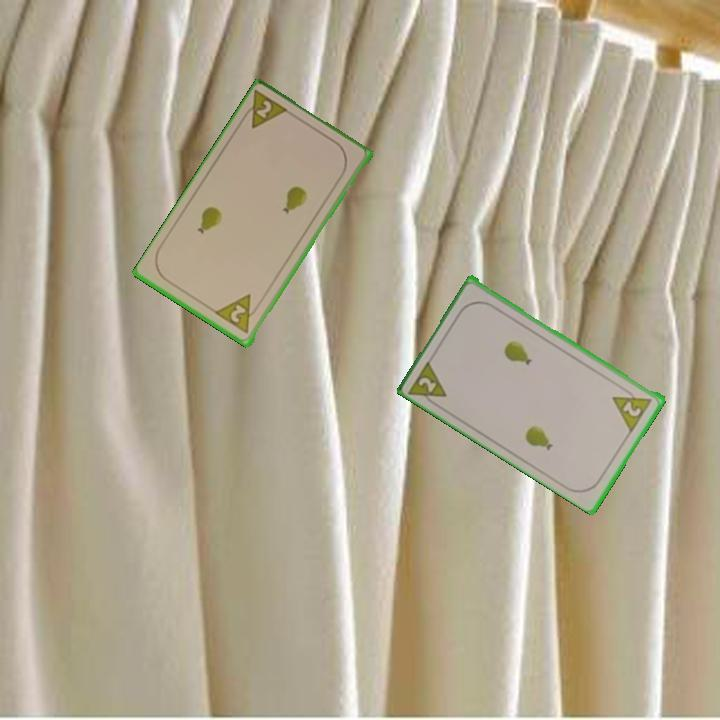2p: (405, 355, 451, 411), (237, 87, 293, 132), (609, 383, 655, 434), (213, 291, 263, 337)
